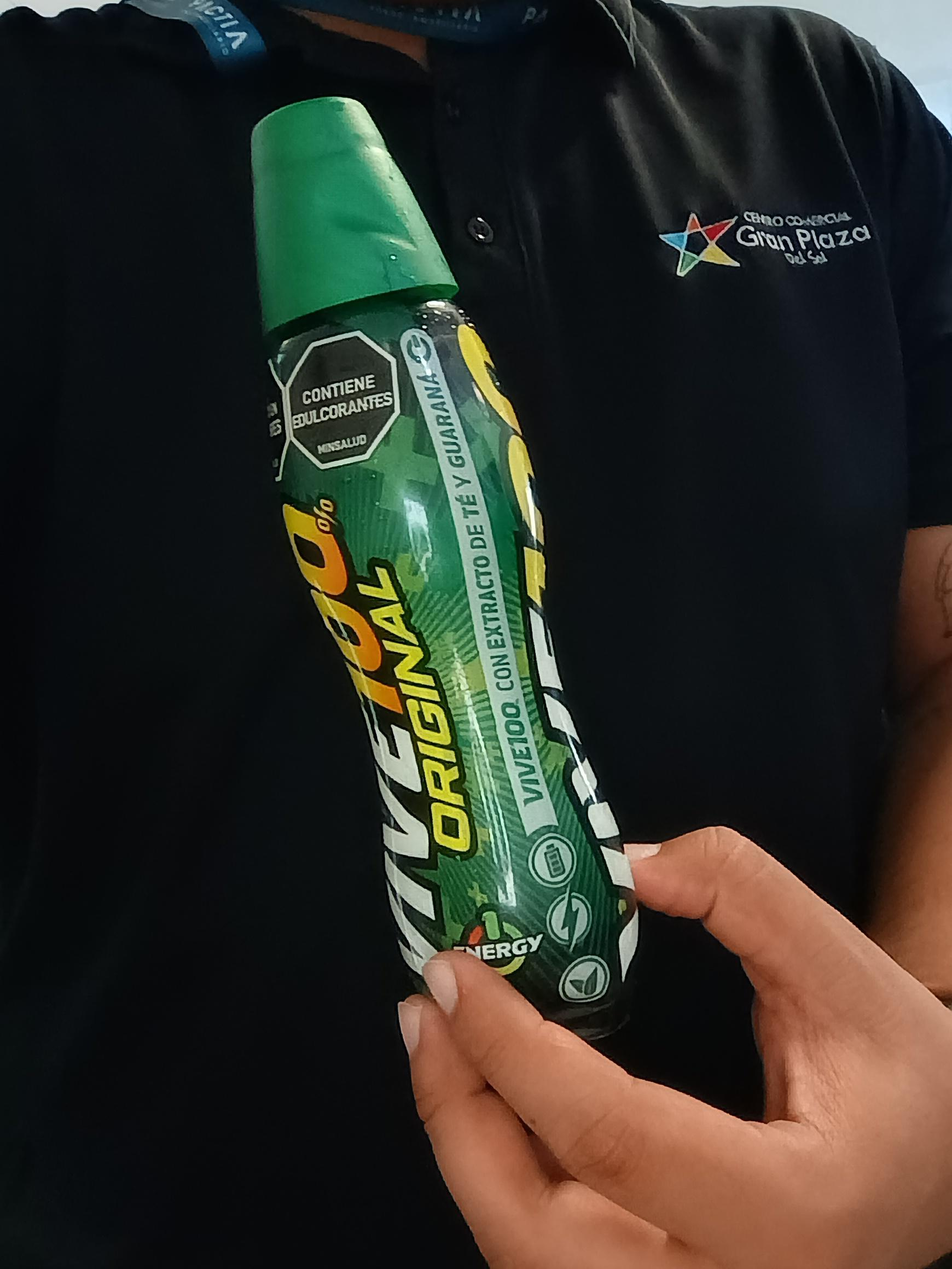Plastico: (250, 96, 641, 1035)
